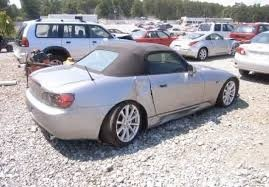Dent: (131, 78, 151, 102)
